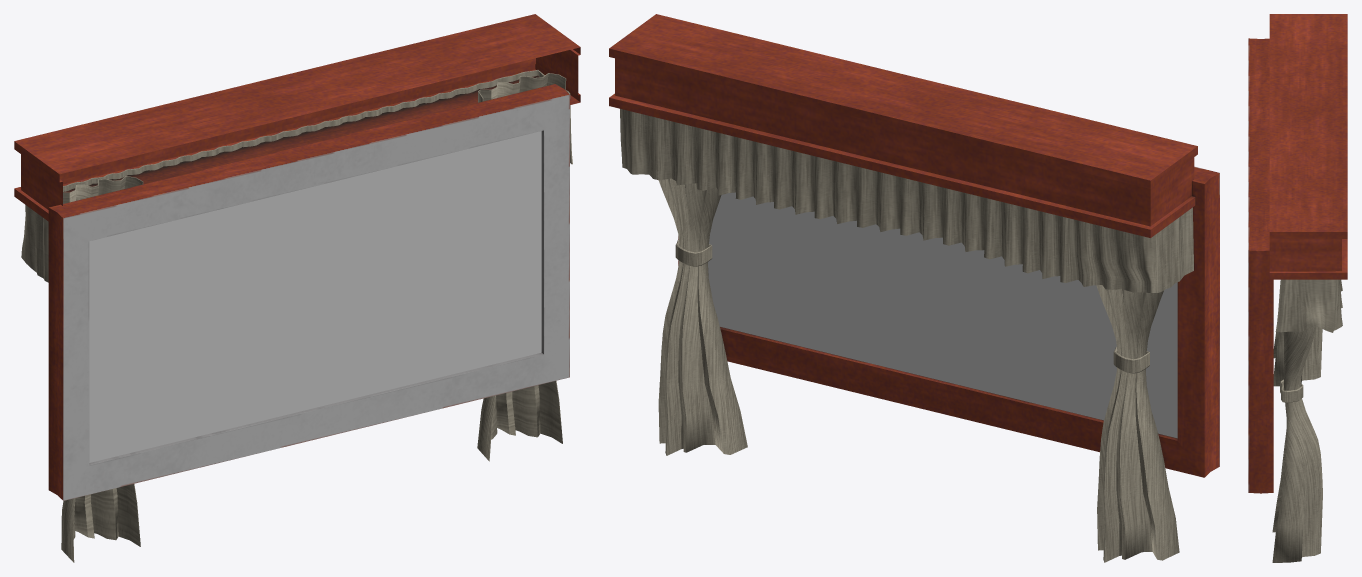
File: SM_Meeting_Window.fbx
3 views of the same model, side by side, from view 1: azimuth 30°, elevation 25°; view 2: azimuth 150°, elevation 25°; view 3: azimuth 270°, elevation 25° (orthographic). The views are drawn at different scales.
Parts seen in each view (by area): view 1: SM_Meeting_Window; view 2: SM_Meeting_Window; view 3: SM_Meeting_Window.
Boxes of the visible parts, x1,y1,x2,y2 form: SM_Meeting_Window: [14, 14, 580, 562]; SM_Meeting_Window: [609, 14, 1219, 562]; SM_Meeting_Window: [1248, 14, 1347, 562].
Bounding box in the file's own units: 158 × 29.79 × 112.
Materials: 2 (1 with a texture image).
